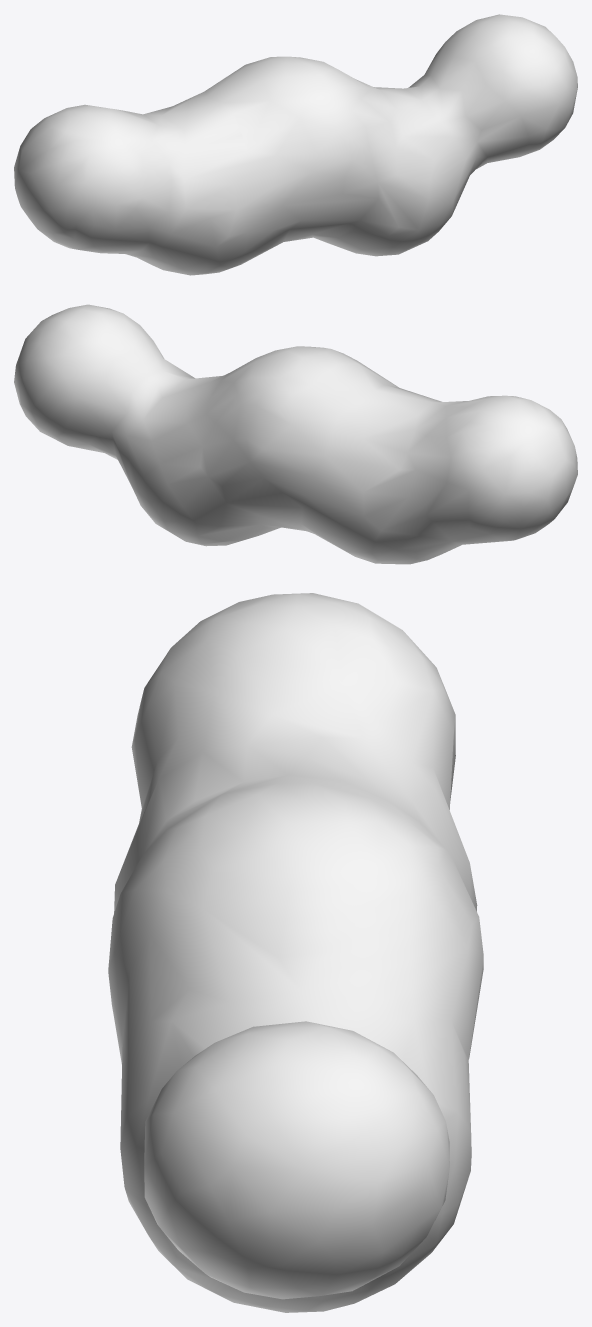
Rendered from cloud_5.fbx.
The picture shows the model from 3 angles, top to bottom: view 1: azimuth 30°, elevation 25°; view 2: azimuth 150°, elevation 25°; view 3: azimuth 270°, elevation 25°; orthographic projection. The views are drawn at different scales.
Parts seen in each view (by area): view 1: cloud_5; view 2: cloud_5; view 3: cloud_5.
Part boxes in pixels (bbox=[...]): cloud_5: bbox=[14, 14, 577, 275]; cloud_5: bbox=[14, 304, 577, 564]; cloud_5: bbox=[108, 593, 483, 1312].
Bounding box in the file's own units: 384 × 139 × 115.
